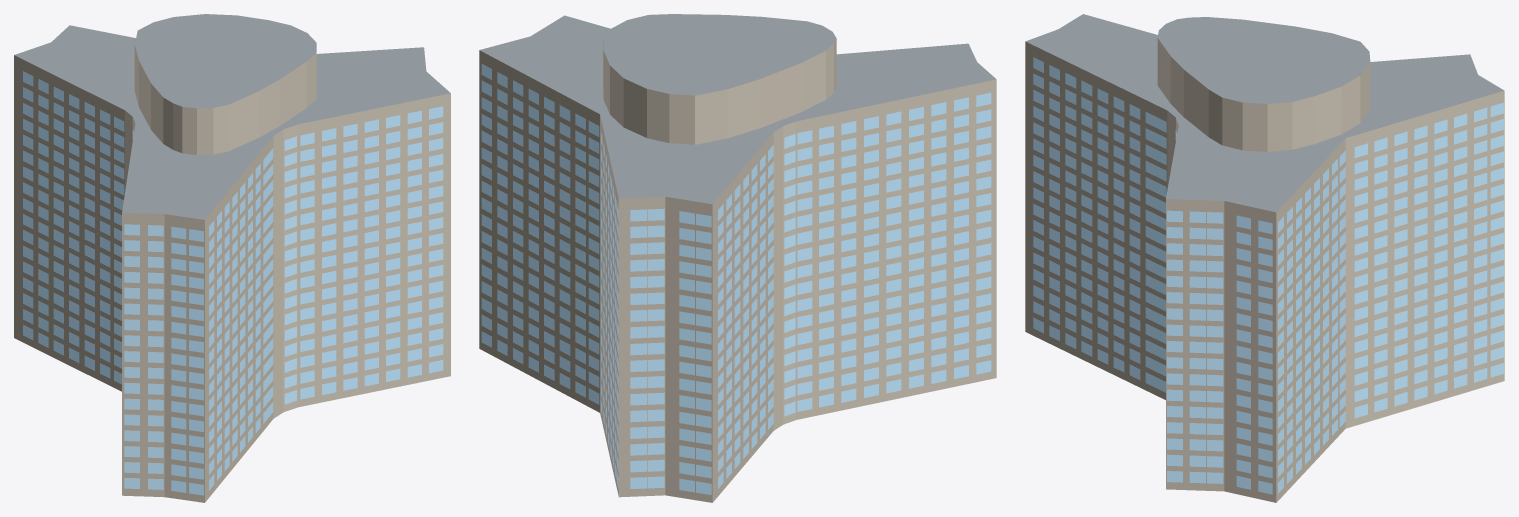
File: detail.glb
3 renders of one model, left to right at view 1: azimuth 30°, elevation 25°; view 2: azimuth 150°, elevation 25°; view 3: azimuth 270°, elevation 25°, orthographic. The views are drawn at different scales.
Visible parts, largest first — view 1: stone, window, roof; view 2: stone, window, roof; view 3: stone, window, roof.
Boxes of the visible parts, box(x1,y1,x2,y2) form: stone: box(14, 45, 450, 502); window: box(23, 71, 443, 495); roof: box(14, 14, 450, 219); stone: box(479, 38, 996, 502); window: box(481, 64, 991, 494); roof: box(479, 14, 996, 204); stone: box(1025, 38, 1504, 502); window: box(1033, 57, 1503, 494); roof: box(1026, 14, 1503, 212).
Bounding box in the file's own units: 73.25 × 58.24 × 74.73.
